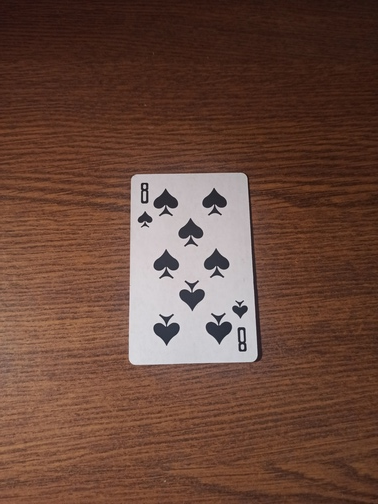eightspades: (127, 171, 261, 367)
